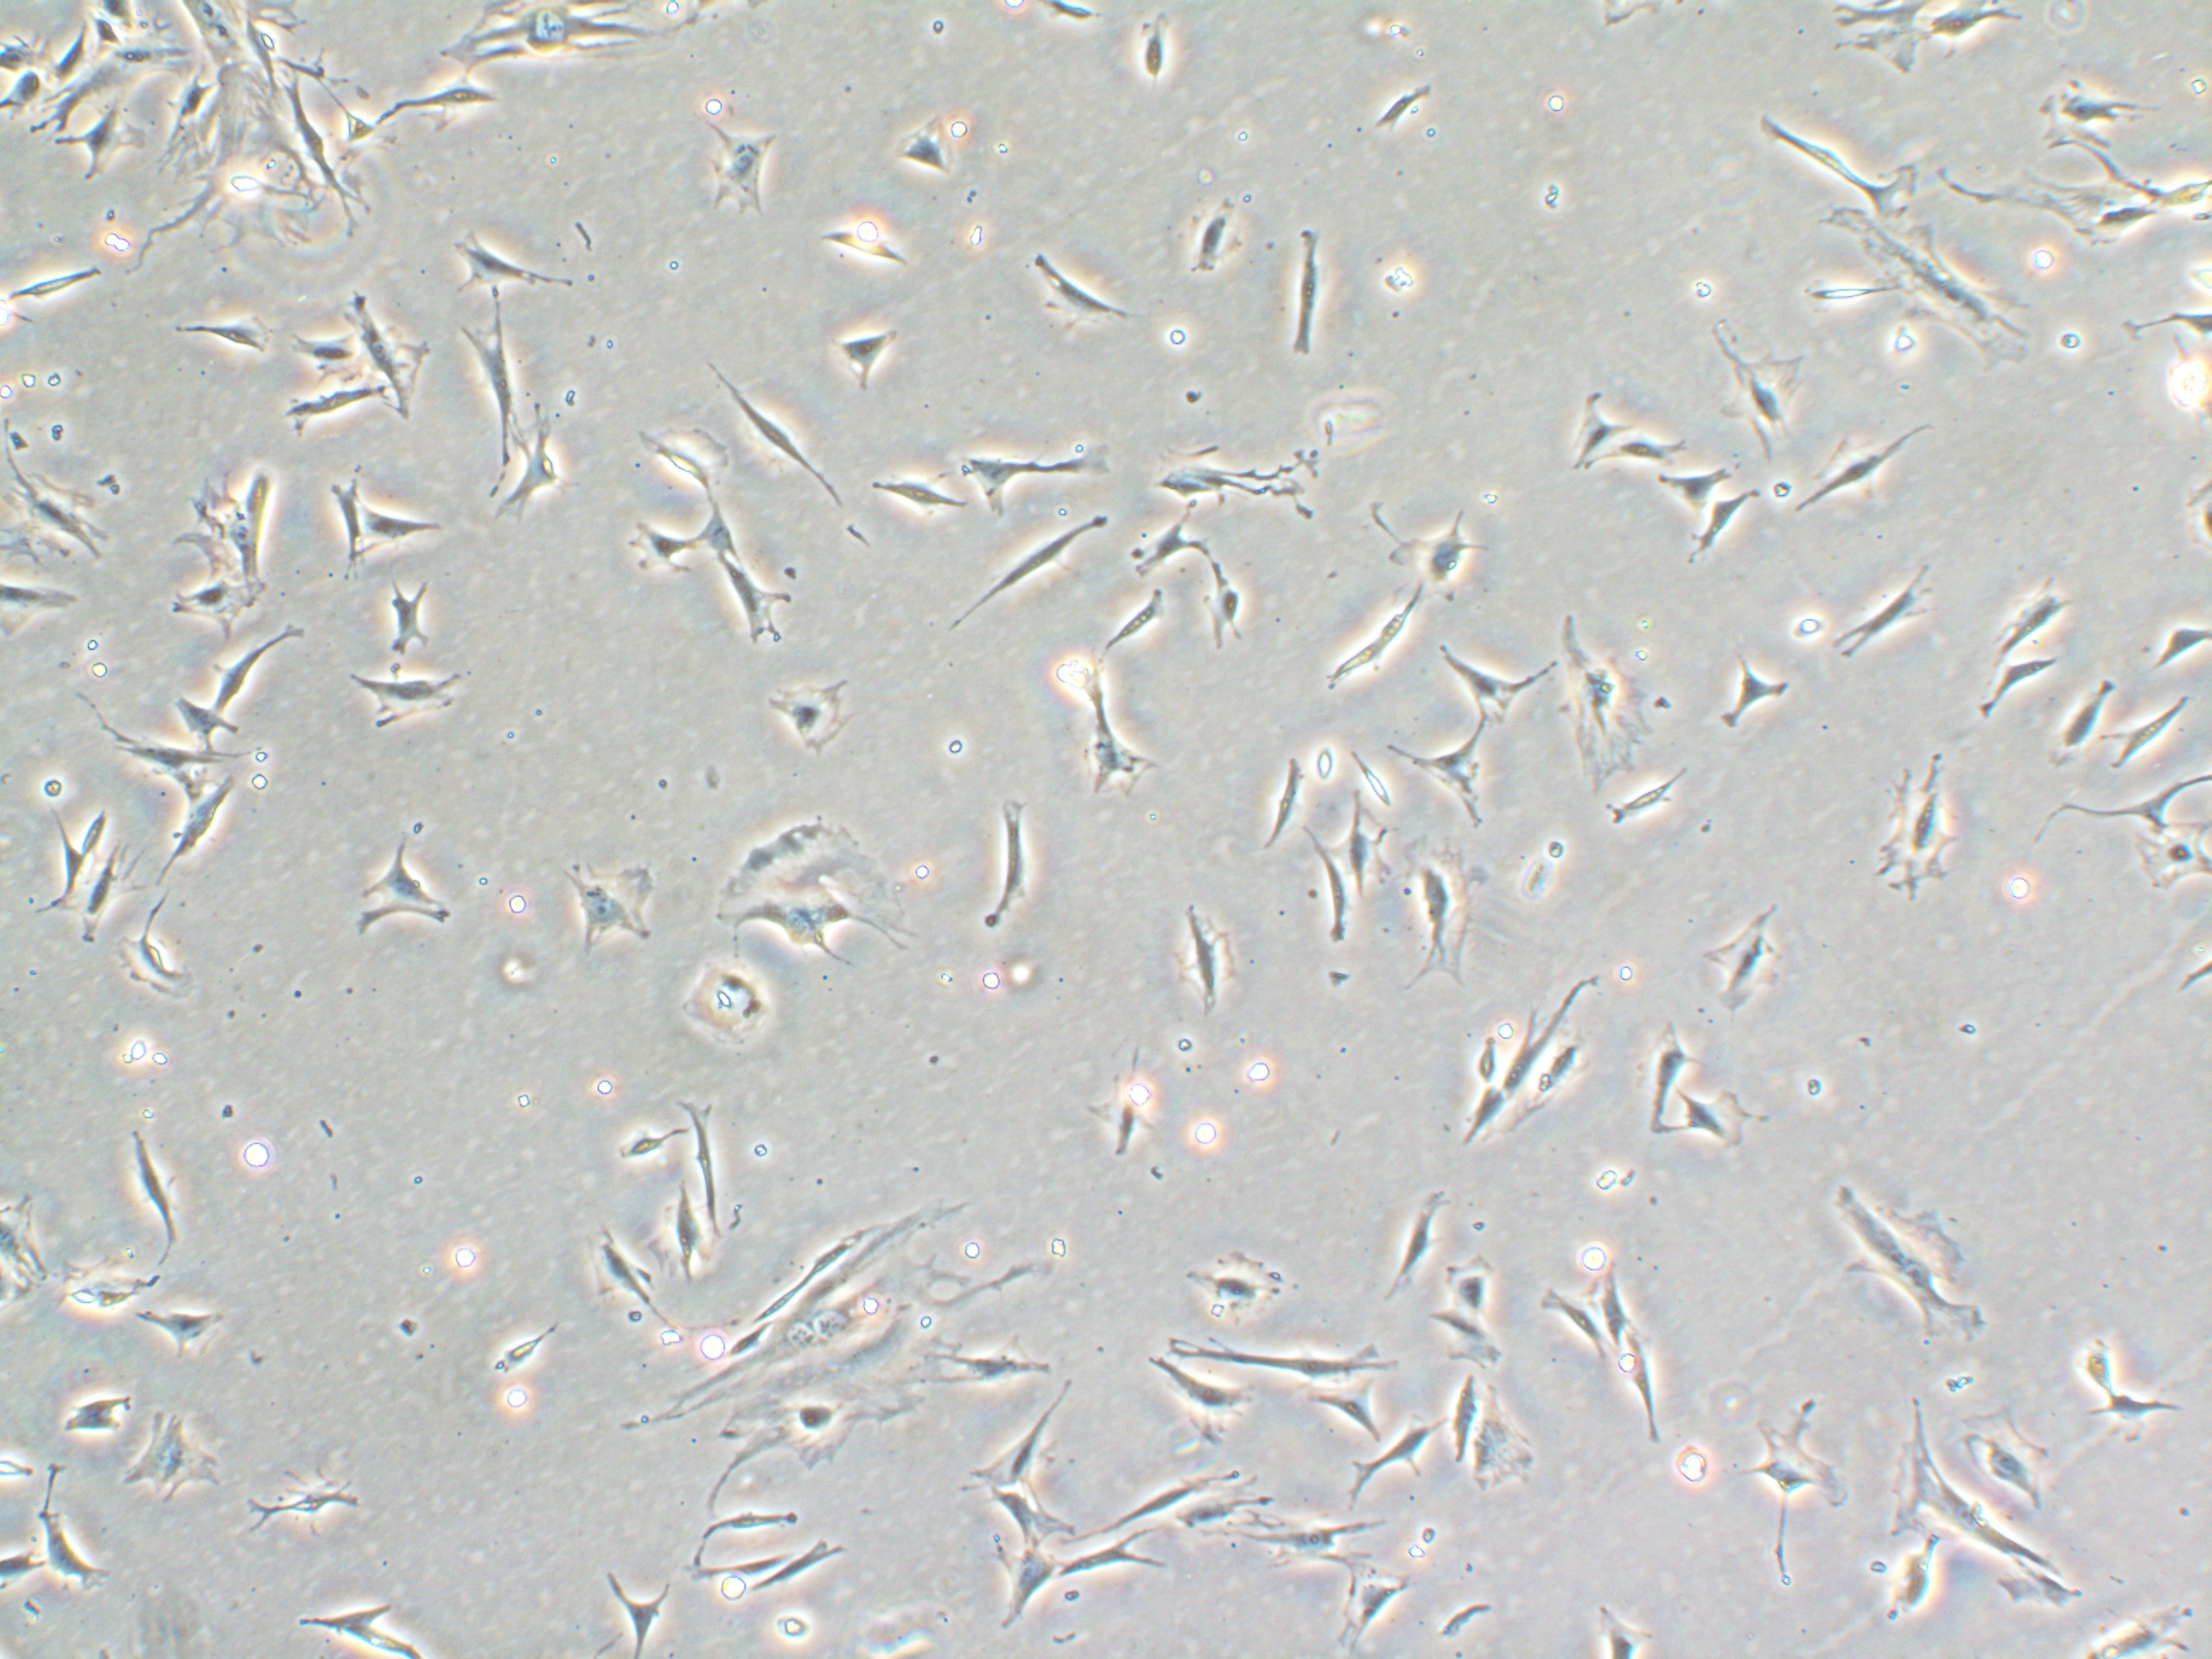Etc: (1588, 765, 1686, 840), (1306, 648, 1376, 706), (1346, 746, 1407, 809)
polygonal: (679, 345, 867, 519), (930, 509, 1134, 655), (1723, 1385, 1851, 1596), (334, 828, 486, 958), (1787, 411, 1961, 523), (958, 772, 1069, 941), (1157, 1326, 1399, 1401), (442, 293, 528, 504), (960, 1359, 1090, 1497), (87, 1403, 244, 1514), (1073, 655, 1174, 824), (138, 774, 260, 911), (340, 279, 446, 436), (1010, 234, 1141, 359), (1127, 1349, 1285, 1450), (563, 1208, 685, 1337), (942, 434, 1123, 519), (1700, 331, 1820, 458), (1500, 943, 1602, 1091), (1329, 1405, 1454, 1525), (1425, 634, 1573, 734), (305, 659, 470, 748), (1696, 887, 1803, 1025), (261, 1595, 486, 1659), (1825, 558, 1947, 676), (1155, 887, 1252, 1035), (84, 725, 280, 798), (1369, 1171, 1456, 1326), (488, 394, 582, 537), (1082, 1457, 1244, 1539), (432, 225, 585, 310), (1533, 369, 1632, 498), (625, 1171, 728, 1295), (981, 1523, 1083, 1645), (202, 613, 326, 713), (345, 70, 510, 143), (223, 455, 296, 620), (118, 1131, 204, 1272), (1965, 1405, 2066, 1521), (693, 110, 780, 240), (1334, 1554, 1440, 1659), (1411, 713, 1496, 840), (627, 413, 740, 509), (1291, 821, 1369, 958), (1275, 206, 1341, 368), (1522, 1267, 1618, 1378), (268, 369, 404, 448), (1158, 173, 1245, 293), (1956, 647, 2076, 734), (1665, 1086, 1787, 1169), (157, 681, 268, 772), (301, 464, 371, 606), (975, 1483, 1094, 1565), (157, 301, 289, 375), (1984, 561, 2087, 655), (1049, 1514, 1176, 1589), (45, 99, 150, 188), (855, 458, 979, 533), (719, 558, 805, 662), (2029, 671, 2113, 777), (599, 1546, 678, 1659), (122, 1297, 240, 1371), (1629, 1004, 1693, 1140), (1712, 645, 1799, 744), (1327, 786, 1395, 913), (1576, 1249, 1653, 1359), (1615, 1310, 1669, 1466), (364, 572, 449, 667), (1296, 1371, 1395, 1452), (152, 577, 263, 647), (812, 315, 911, 392), (75, 831, 141, 945), (273, 317, 378, 387), (347, 488, 448, 558), (1681, 483, 1759, 572), (1433, 1364, 1494, 1476), (1576, 425, 1705, 476), (1202, 563, 1261, 671), (1263, 741, 1310, 877), (1432, 1243, 1503, 1331), (1087, 580, 1169, 655), (887, 118, 968, 193), (611, 519, 695, 592), (697, 493, 766, 580), (1648, 455, 1743, 512), (1451, 1082, 1508, 1150)
small-round: (1299, 735, 1348, 802), (1778, 601, 1825, 652)
spread: (657, 1168, 1036, 1500), (1799, 1171, 2008, 1385), (679, 807, 927, 972), (1822, 204, 2048, 371), (167, 75, 343, 251), (1888, 1417, 2052, 1600), (427, 0, 693, 89), (1552, 598, 1670, 786), (1984, 153, 2163, 270), (1378, 828, 1494, 1002), (1858, 749, 1973, 896), (1167, 1229, 1308, 1331), (543, 859, 669, 964), (2027, 68, 2135, 174)
